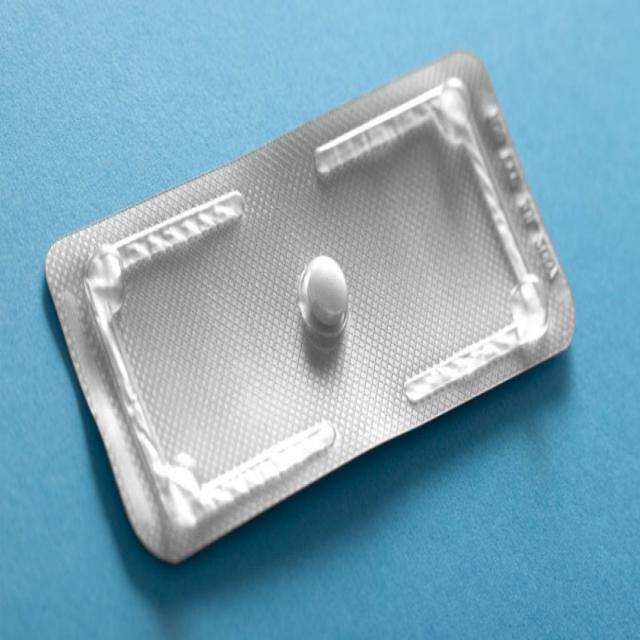Pill: (288, 247, 363, 347)
